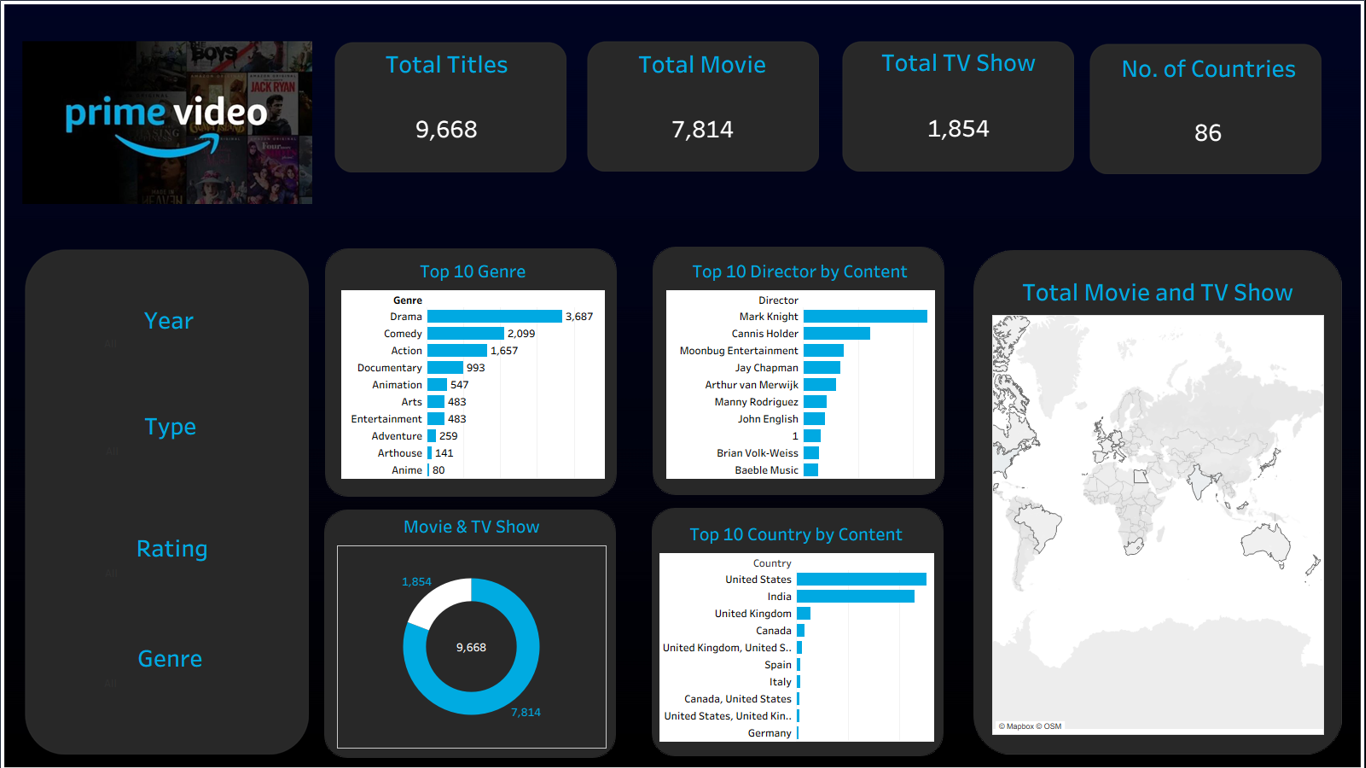

The dashboard page shown, as its layout file describes it:
{"tool":"tableau","page":{"name":"Dashboard 1","canvas":[1600,900],"ordinal":0},"visuals":[{"type":"title","box":[8,8,1584,42]},{"type":"image","param":"Image/download (2).jfif","box":[26,48,340,192]},{"type":"image","param":"Image/282828-modified.png","box":[688,48,275,153]},{"type":"image","param":"Image/282828-modified.png","box":[987,48,275,153]},{"type":"worksheet","title":"KPI 3","mark":"Automatic","box":[1004,48,240,151]},{"type":"image","param":"Image/282828-modified.png","box":[392,49,275,153]},{"type":"worksheet","title":"KPI 1","mark":"Automatic","box":[422,50,204,149]},{"type":"worksheet","title":"KPI 2","mark":"Automatic","box":[709,50,229,149]},{"type":"legend","title":"Donut Chart of Movie & TV Show","param":"[federated.1b3zl7e1kcb1lo1dnpp6x1txs6id].[none:Calculation_1588854598639634:nk]","box":[1432,50,160,66]},{"type":"image","param":"Image/282828-modified.png","box":[1277,51,275,153]},{"type":"worksheet","title":"KPI 4","mark":"Automatic","box":[1303,55,228,147]},{"type":"filter","title":"Top 10 Country by Content","param":"[federated.1b3zl7e1kcb1lo1dnpp6x1txs6id].[usr:Calculation_1588854616965139:qk]","box":[1432,116,160,69]},{"type":"legend","title":"Total Shows by Country-Map","param":"[federated.1b3zl7e1kcb1lo1dnpp6x1txs6id].[usr:Calculation_1588854616965139:qk]","box":[1432,185,160,65]},{"type":"image","param":"Image/solid-color-image-modified.png","box":[765,289,342,293]},{"type":"image","param":"Image/solid-color-image-modified.png","box":[381,291,342,293]},{"type":"image","param":"Image/12.png","box":[1141,293,445,592]},{"type":"worksheet","title":"Top 10 Genre","mark":"Bar","rows":["Genre"],"cols":["Count"],"box":[400,297,309,274]},{"type":"worksheet","title":"Top 10 Director by Content","mark":"Automatic","rows":["Director"],"cols":["Calculation_1588854616965139"],"box":[781,297,314,273]},{"type":"worksheet","title":"Total Shows by Country-Map","mark":"Automatic","box":[1163,317,389,544]},{"type":"worksheet","title":"Filter Year","mark":"Automatic","box":[120,350,156,42]},{"type":"filter","title":"Filter Year","param":"[federated.1b3zl7e1kcb1lo1dnpp6x1txs6id].[none:Release_Year:ok]","box":[120,394,160,25]},{"type":"worksheet","title":"Type","mark":"Automatic","box":[122,474,156,47]},{"type":"filter","title":"Type","param":"[federated.1b3zl7e1kcb1lo1dnpp6x1txs6id].[none:Type:nk]","box":[122,520,158,32]},{"type":"image","param":"Image/solid-color-image-modified.png","box":[764,595,342,293]},{"type":"worksheet","title":"Donut Chart of Movie & TV Show","mark":"Pie","rows":["Calculation_1588854590234635","Calculation_1588854590234635"],"box":[395,596,316,281]},{"type":"image","param":"Image/solid-color-image-modified.png","box":[380,597,342,293]},{"type":"worksheet","title":"Top 10 Country by Content","mark":"Bar","rows":["Country"],"cols":["Calculation_1588854616965139"],"box":[773,605,321,277]},{"type":"worksheet","title":"Rating","mark":"Automatic","box":[124,617,156,45]},{"type":"filter","title":"Rating","param":"[federated.1b3zl7e1kcb1lo1dnpp6x1txs6id].[none:rating:nk]","box":[121,663,160,25]},{"type":"worksheet","title":"Genre","mark":"Automatic","box":[121,746,157,47]},{"type":"filter","title":"Genre","param":"[federated.1b3zl7e1kcb1lo1dnpp6x1txs6id].[none:Calculation_1588854561026054:nk]","box":[120,792,162,24]}]}

Visuals, with their boxes in screenshot pixels (x1, y1, x2, y2), scaled from the page's 1600x900 canvas onto the 1366x768 screenshot:
title: BBox(7, 7, 1359, 43)
image: BBox(22, 41, 312, 205)
image: BBox(587, 41, 822, 172)
image: BBox(843, 41, 1077, 172)
"KPI 3" worksheet: BBox(857, 41, 1062, 170)
image: BBox(335, 42, 569, 172)
"KPI 1" worksheet: BBox(360, 43, 534, 170)
"KPI 2" worksheet: BBox(605, 43, 801, 170)
"Donut Chart of Movie & TV Show" legend: BBox(1223, 43, 1359, 99)
image: BBox(1090, 44, 1325, 174)
"KPI 4" worksheet: BBox(1112, 47, 1307, 172)
"Top 10 Country by Content" filter: BBox(1223, 99, 1359, 158)
"Total Shows by Country-Map" legend: BBox(1223, 158, 1359, 213)
image: BBox(653, 247, 945, 497)
image: BBox(325, 248, 617, 498)
image: BBox(974, 250, 1354, 755)
"Top 10 Genre" worksheet (Bar marks): BBox(342, 253, 605, 487)
"Top 10 Director by Content" worksheet: BBox(667, 253, 935, 486)
"Total Shows by Country-Map" worksheet: BBox(993, 271, 1325, 735)
"Filter Year" worksheet: BBox(102, 299, 236, 335)
"Filter Year" filter: BBox(102, 336, 239, 358)
"Type" worksheet: BBox(104, 404, 237, 445)
"Type" filter: BBox(104, 444, 239, 471)
image: BBox(652, 508, 944, 758)
"Donut Chart of Movie & TV Show" worksheet (Pie marks): BBox(337, 509, 607, 748)
image: BBox(324, 509, 616, 759)
"Top 10 Country by Content" worksheet (Bar marks): BBox(660, 516, 934, 753)
"Rating" worksheet: BBox(106, 527, 239, 565)
"Rating" filter: BBox(103, 566, 240, 587)
"Genre" worksheet: BBox(103, 637, 237, 677)
"Genre" filter: BBox(102, 676, 241, 696)
